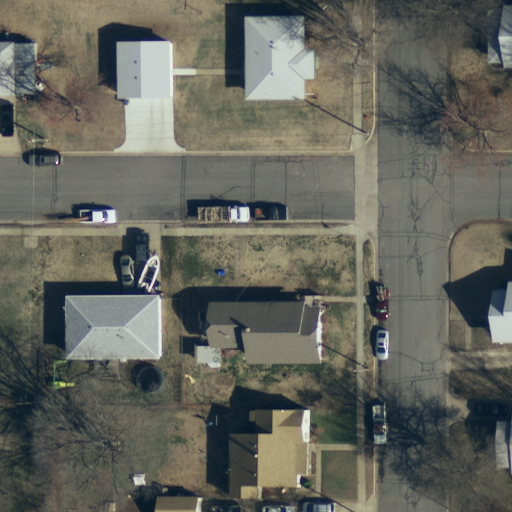DT: (341, 124, 375, 145), (23, 130, 50, 150)
